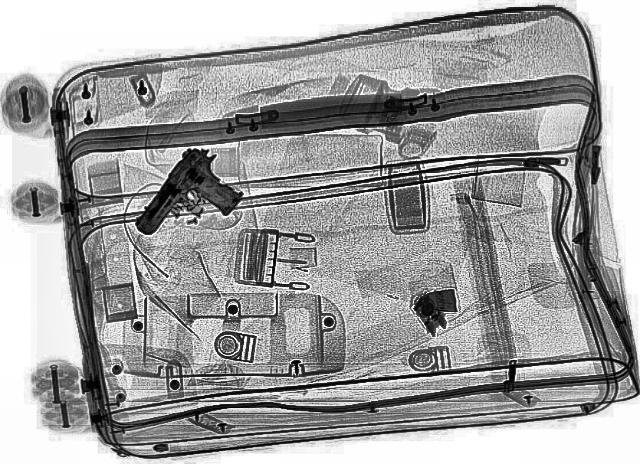Gun: (124, 144, 266, 253)
